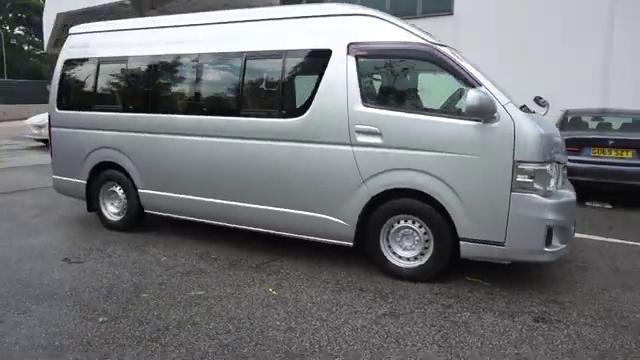van: (51, 9, 585, 275)
